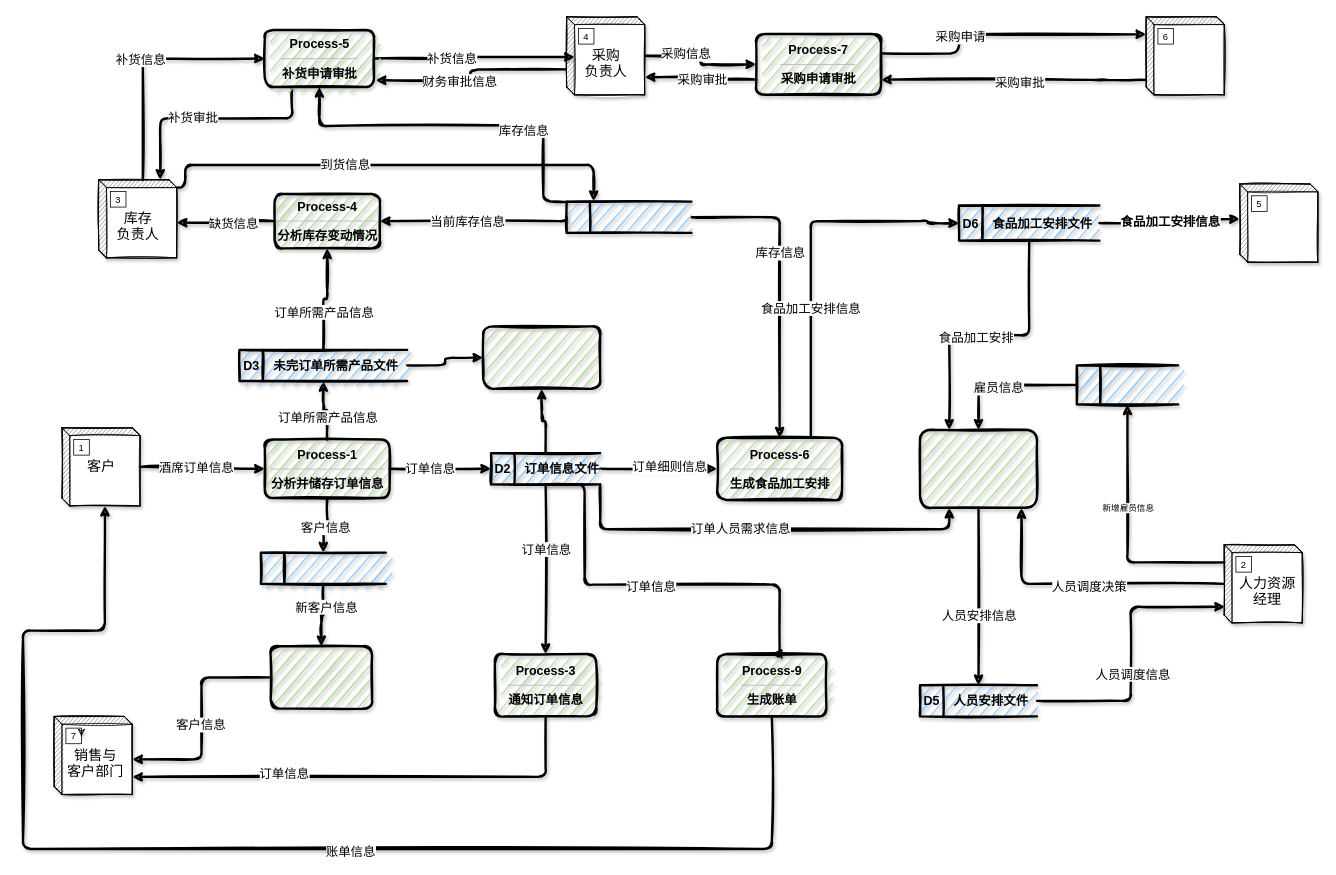
Some shapes in this 1336 by 875 pixel diagram are drawn without their labels. Each missing label, with the centre of its shape:
"D1 客户信息文件" goes at (323,569).
"D4 库存信息文件" goes at (629,218).
"D7 雇员文件" goes at (1128,386).
"Process- 订单结束处理" goes at (542,358).
"Process-2 通知客户信息" goes at (322,678).
"Process-8 人员调度安排" goes at (978,469).
"财务" goes at (1185,56).
"食物加工 部门" goes at (1279,224).
